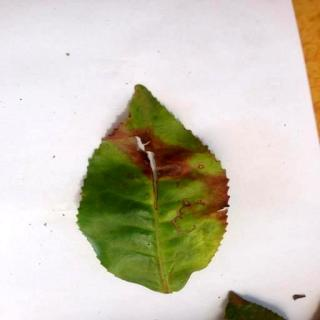Algal Leaf: (82, 83, 232, 295)
